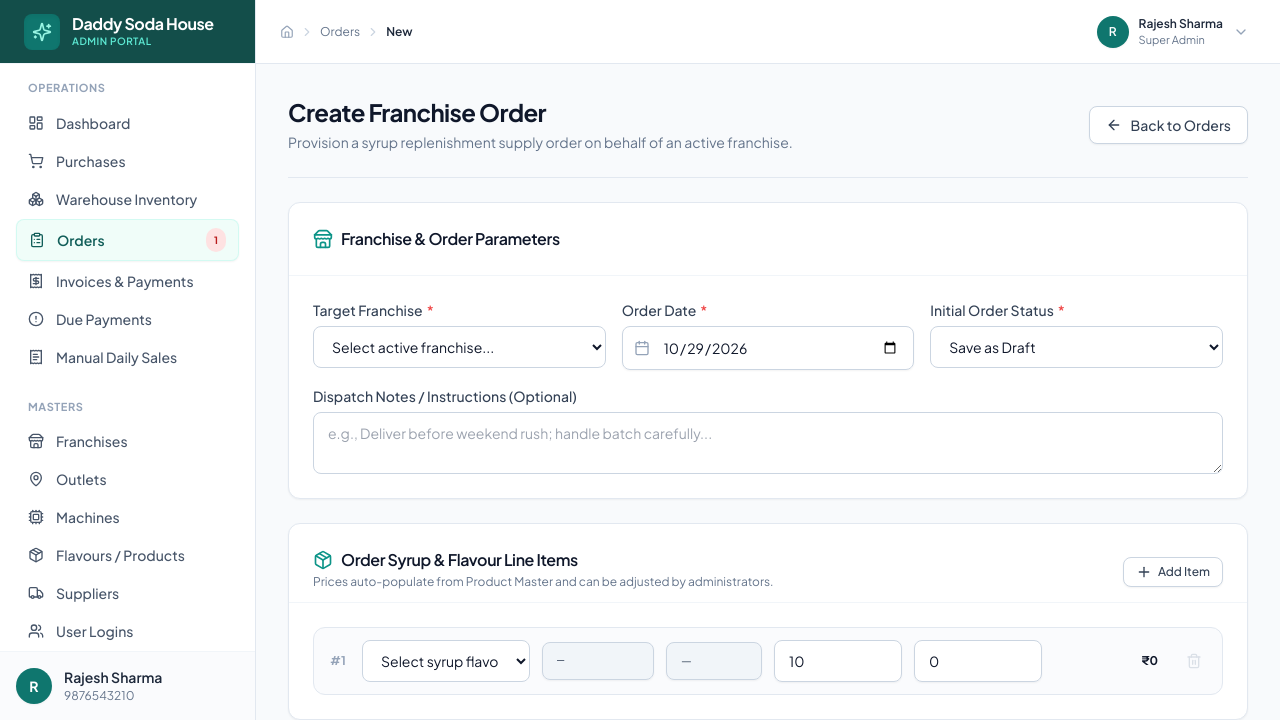
Daddy Soda House Franchise Orders & Delivery Module (FE-04) › prevents duplicate product rows within the same order
Expected: the heading "Create Franchise Order" is shown, [288,96,546,128]
Select "Kothrud Refreshments (DSH-PUN-001)" in the dropdown labelled "Target Franchise*": (459, 347) [313,326,606,368]
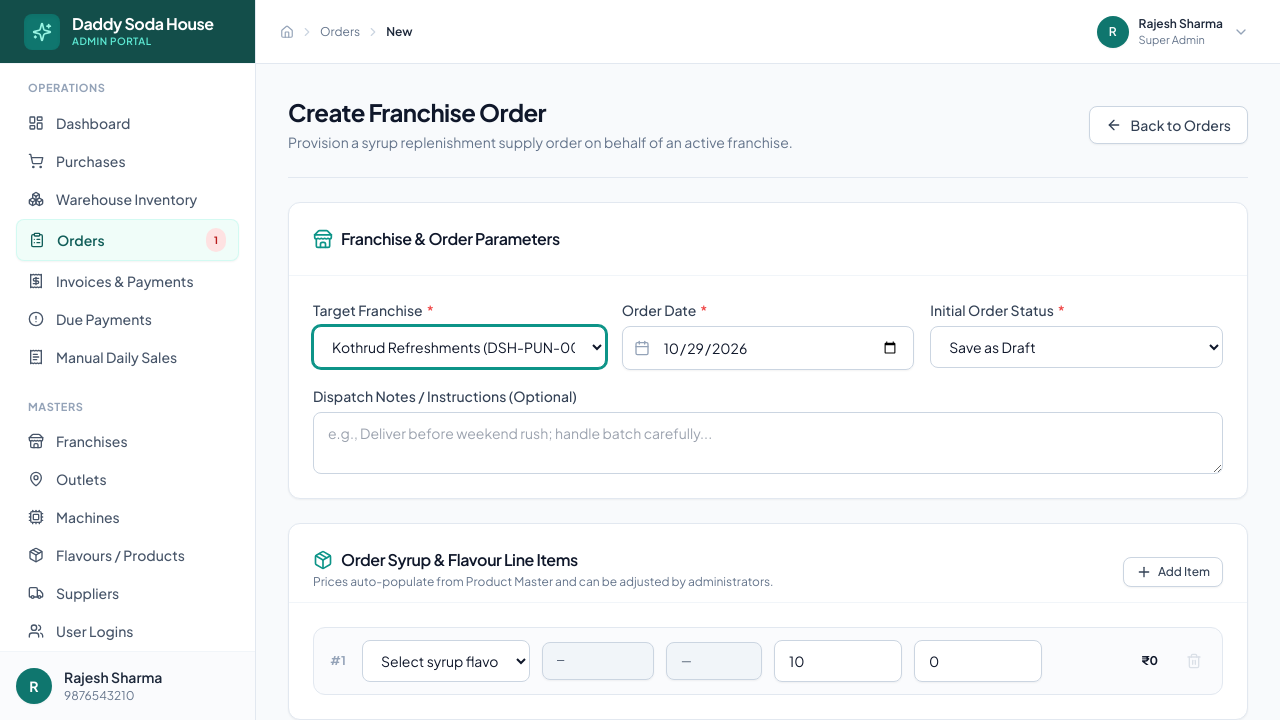
Select "Orange Syrup Concentrate (ORANGE)" in the 3rd dropdown: (446, 661) [362,640,530,682]
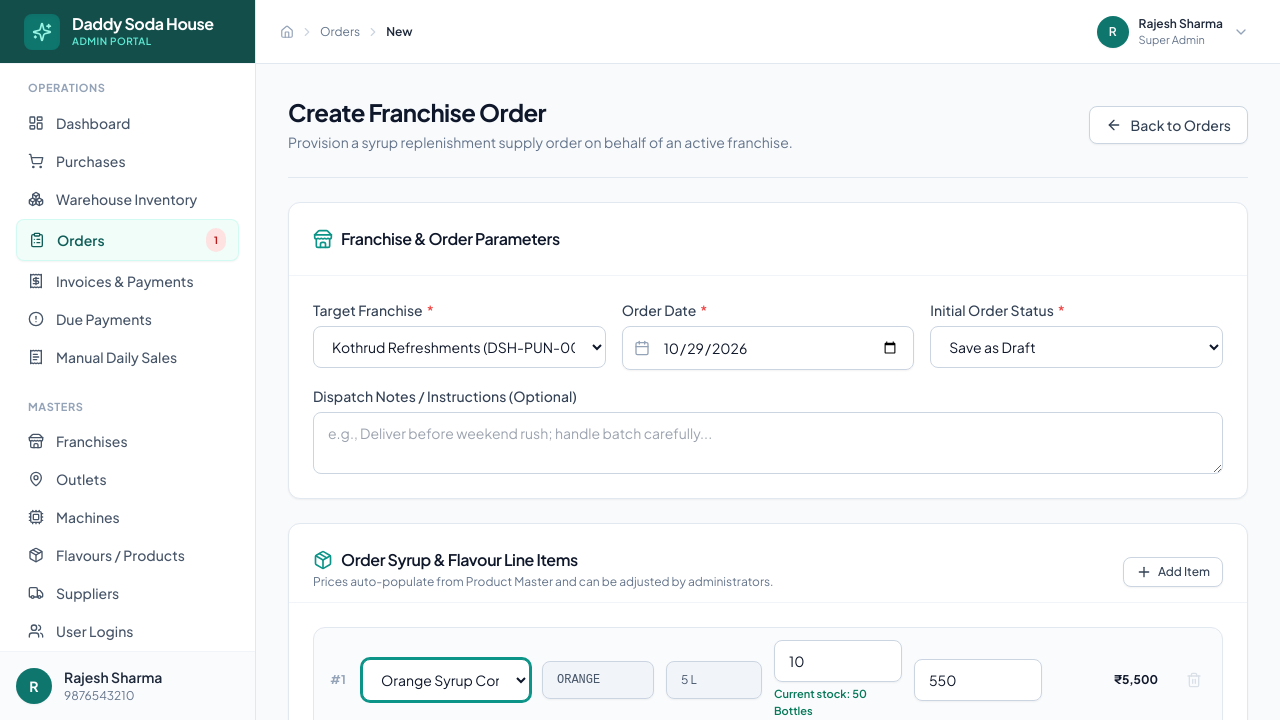
# Add another row
Click the button "Add Item": (1173, 572) [1123,557,1223,587]
(page scrolled)
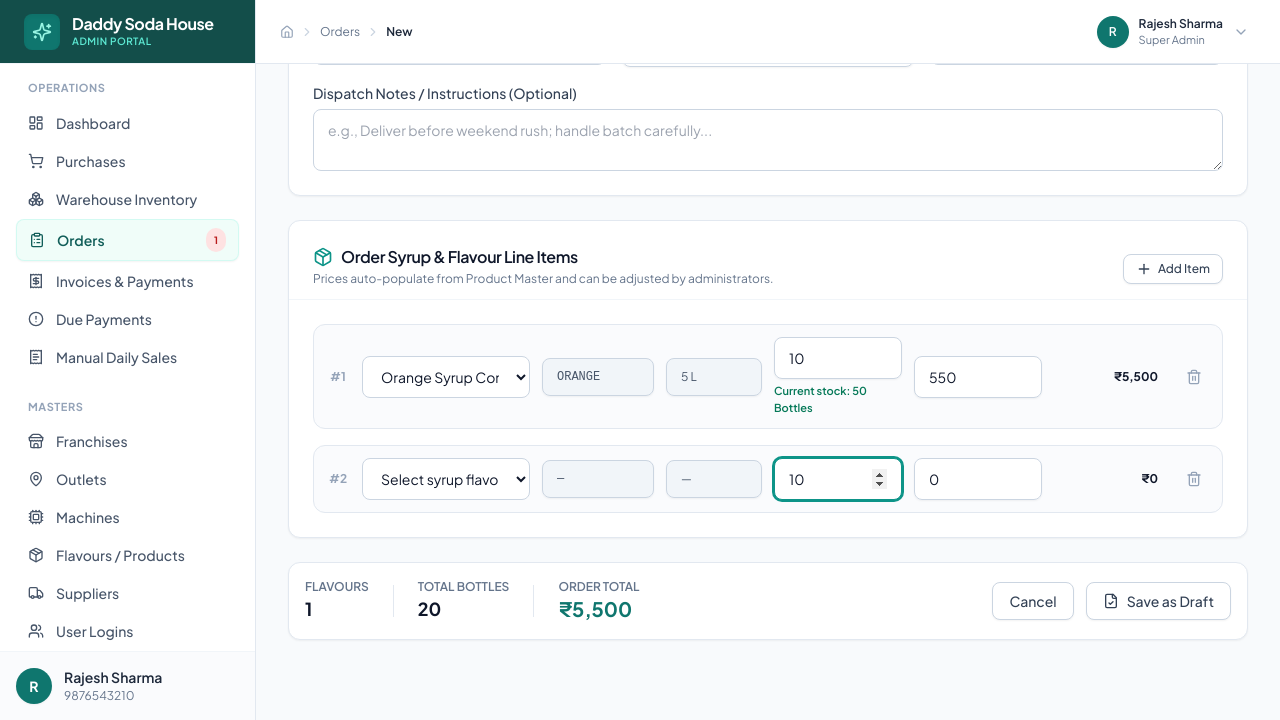
# Select same product in row 2
Select "Orange Syrup Concentrate (ORANGE)" in the dropdown in the row of "₹0": (446, 479) [362,458,530,500]
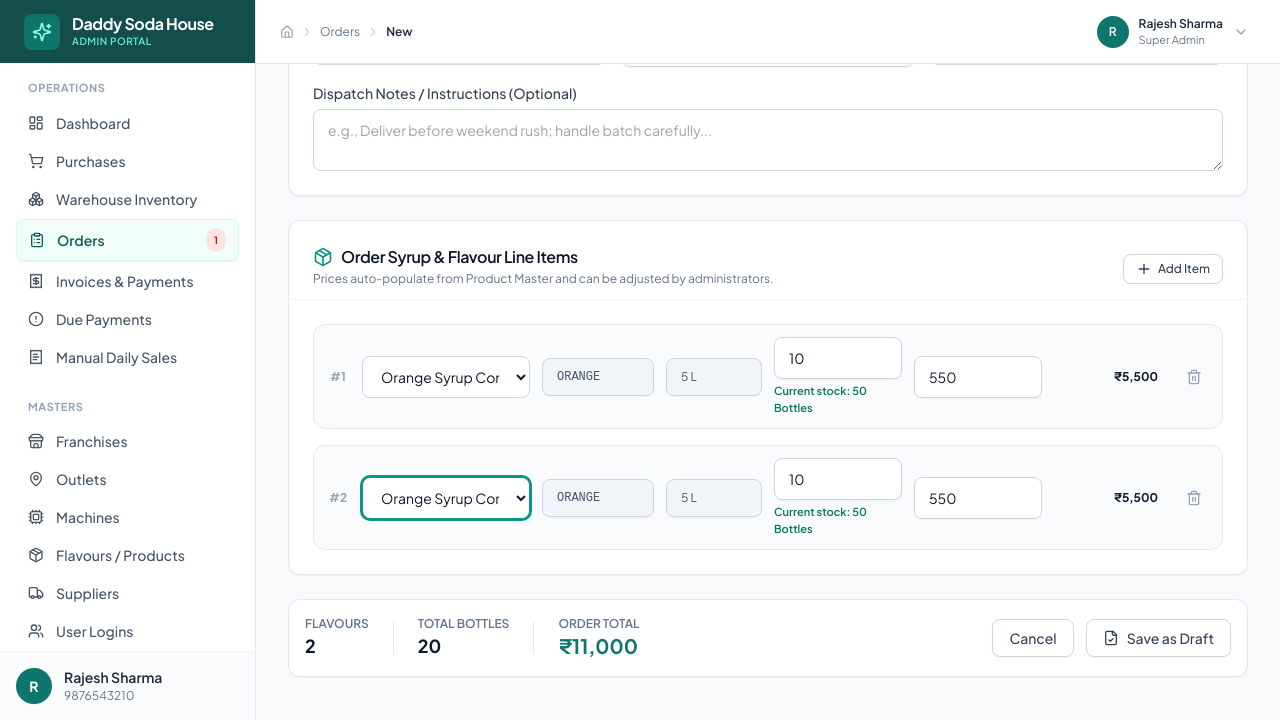
# Submit form
Click the button "Save as Draft": (1158, 638) [1086,619,1231,657]
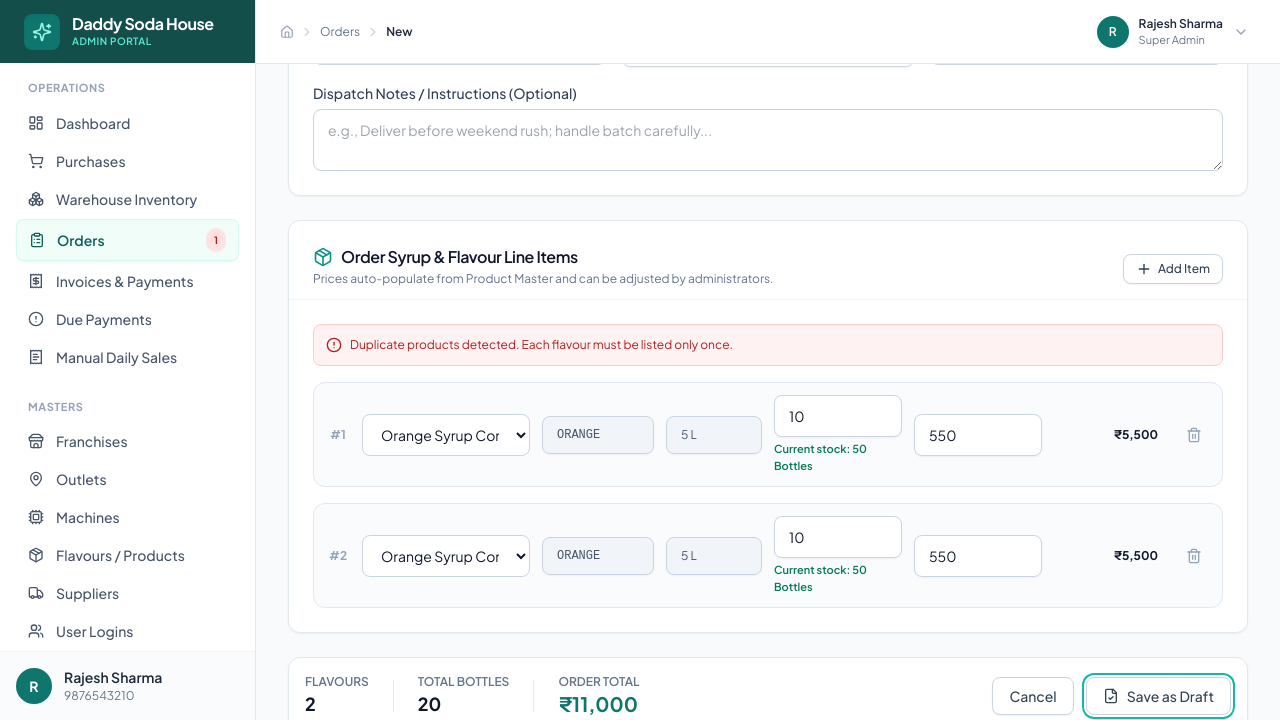
Expected: the text "Duplicate products detected. Each flavour must be listed only once." is shown, [313,324,1223,366]
